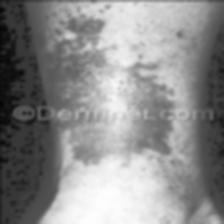Non-Cancerous Skin Condition: (49, 0, 184, 103), (63, 121, 188, 202)
